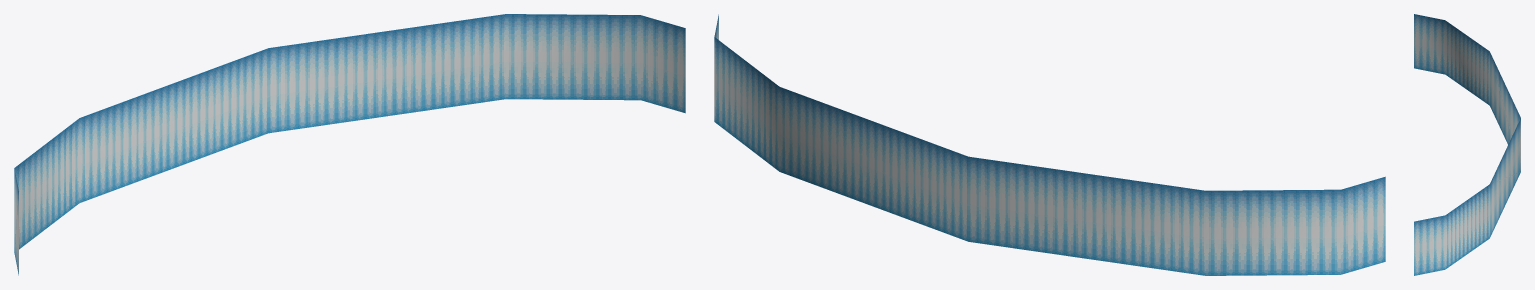
File: yt1300_engine_s01_on_l1.fbx
The picture shows the model from 3 angles, left to right: view 1: azimuth 30°, elevation 25°; view 2: azimuth 150°, elevation 25°; view 3: azimuth 270°, elevation 25°; orthographic projection. The views are drawn at different scales.
Visible parts, largest first — view 1: mesh_node; view 2: mesh_node; view 3: mesh_node.
Part boxes in pixels (box(x1,y1,x2,y2)): mesh_node: box(14, 14, 685, 275); mesh_node: box(714, 14, 1385, 275); mesh_node: box(1414, 14, 1520, 275).
Bounding box in the file's own units: 17.69 × 2.16 × 3.85.
1 material, 1 textured.
